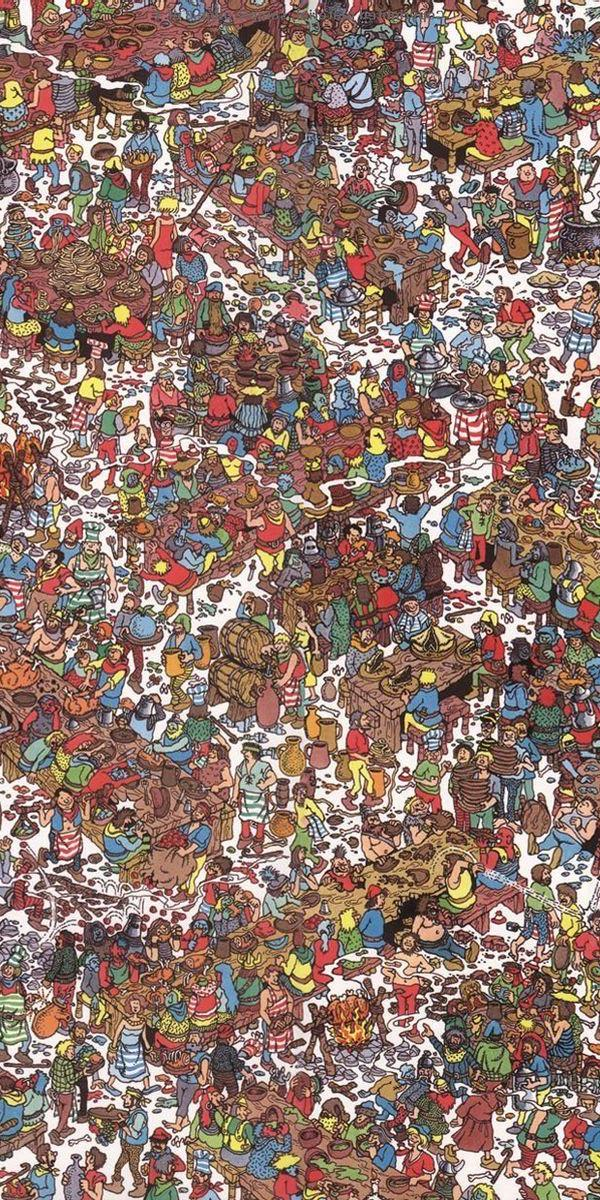waldos: (155, 411, 176, 440)
